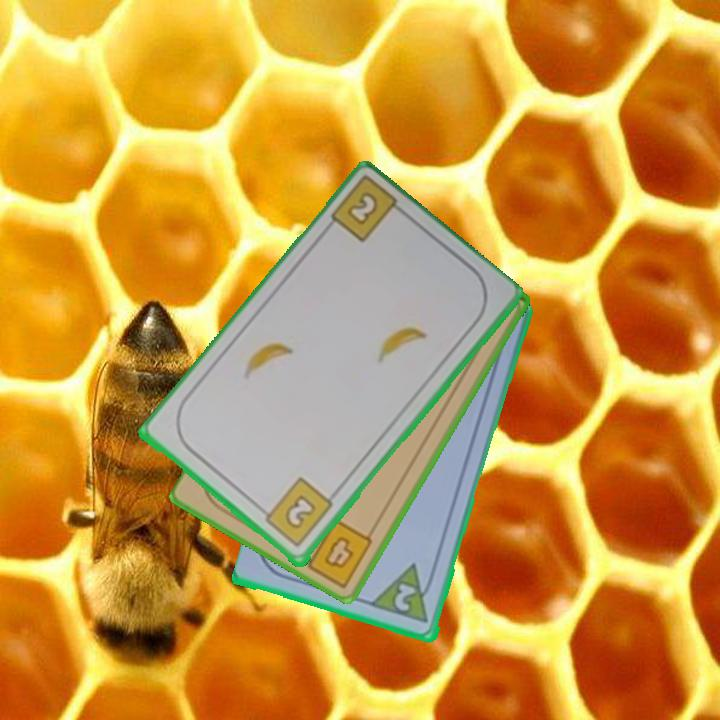2b: (255, 474, 336, 551), (327, 176, 410, 246)
2p: (391, 580, 419, 615)
4b: (296, 515, 376, 590)
